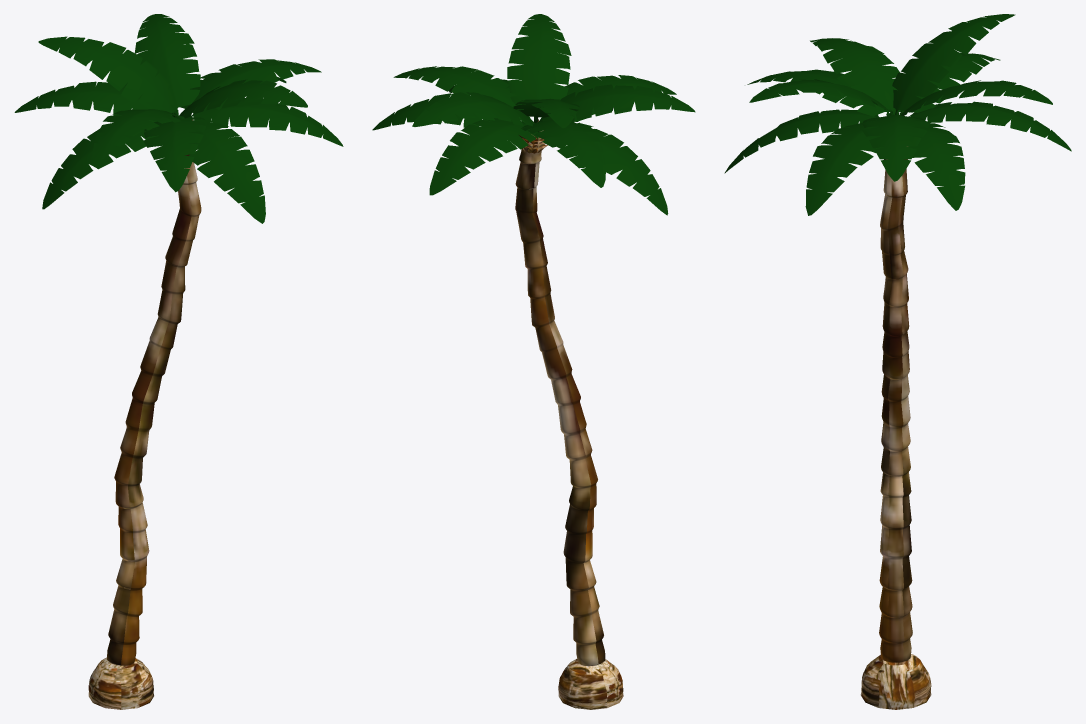
Rendered from palmtree.obj.
3 views of the same model, side by side, from view 1: azimuth 30°, elevation 25°; view 2: azimuth 150°, elevation 25°; view 3: azimuth 270°, elevation 25° (orthographic). The views are drawn at different scales.
Visible parts, largest first — view 1: trunk palm_move1, palm_leaves polySurface8, palm_leaves polySurface13, palm_leaves polySurface6, palm_leaves polySurface12, base palm_move, palm_leaves polySurface15, palm_leaves polySurface9, palm_leaves polySurface14, palm_leaves polySurface10, polySurface4 palm_leaves, palm_leaves polySurface11; view 2: trunk palm_move1, palm_leaves polySurface14, palm_leaves polySurface7, palm_leaves polySurface11, base palm_move, palm_leaves polySurface9, palm_leaves polySurface6, palm_leaves polySurface10, polySurface4 palm_leaves, palm_leaves polySurface8, palm_leaves polySurface5, palm_leaves polySurface12; view 3: trunk palm_move1, palm_leaves polySurface8, palm_leaves polySurface15, palm_leaves polySurface11, base palm_move, palm_leaves polySurface5, polySurface4 palm_leaves, palm_leaves polySurface7, palm_leaves polySurface13, palm_leaves polySurface6, palm_leaves polySurface14, palm_leaves polySurface12 (+1 smaller).
Boxes of the visible parts, <box> form: trunk palm_move1: <box>107,119,201,665</box>; palm_leaves polySurface8: <box>38,36,177,116</box>; palm_leaves polySurface13: <box>188,120,265,223</box>; palm_leaves polySurface6: <box>134,14,200,115</box>; palm_leaves polySurface12: <box>143,117,207,192</box>; base palm_move: <box>88,657,154,709</box>; palm_leaves polySurface15: <box>189,98,343,146</box>; palm_leaves polySurface9: <box>14,81,171,121</box>; palm_leaves polySurface14: <box>179,79,307,118</box>; palm_leaves polySurface10: <box>42,121,158,209</box>; polySurface4 palm_leaves: <box>183,59,321,116</box>; palm_leaves polySurface11: <box>92,109,186,163</box>; trunk palm_move1: <box>515,119,605,666</box>; palm_leaves polySurface14: <box>507,14,571,121</box>; palm_leaves polySurface7: <box>429,118,538,195</box>; palm_leaves polySurface11: <box>538,84,695,122</box>; base palm_move: <box>558,658,623,709</box>; palm_leaves polySurface9: <box>521,120,606,187</box>; palm_leaves polySurface6: <box>412,92,534,127</box>; palm_leaves polySurface10: <box>538,123,668,215</box>; polySurface4 palm_leaves: <box>393,66,521,118</box>; palm_leaves polySurface8: <box>513,98,579,128</box>; palm_leaves polySurface5: <box>372,93,524,130</box>; palm_leaves polySurface12: <box>542,75,676,121</box>; trunk palm_move1: <box>879,146,912,662</box>; palm_leaves polySurface8: <box>892,14,1015,114</box>; palm_leaves polySurface15: <box>805,122,883,215</box>; palm_leaves polySurface11: <box>810,38,899,114</box>; base palm_move: <box>860,654,931,709</box>; palm_leaves polySurface5: <box>908,123,965,210</box>; polySurface4 palm_leaves: <box>862,115,930,181</box>; palm_leaves polySurface7: <box>909,101,1071,151</box>; palm_leaves polySurface13: <box>724,109,879,173</box>; palm_leaves polySurface6: <box>900,80,1052,115</box>; palm_leaves polySurface14: <box>749,79,894,115</box>; palm_leaves polySurface12: <box>747,69,889,116</box>.
Bounding box in the file's own units: 23.09 × 49.62 × 23.31.
Materials: 2 (1 with a texture image).
